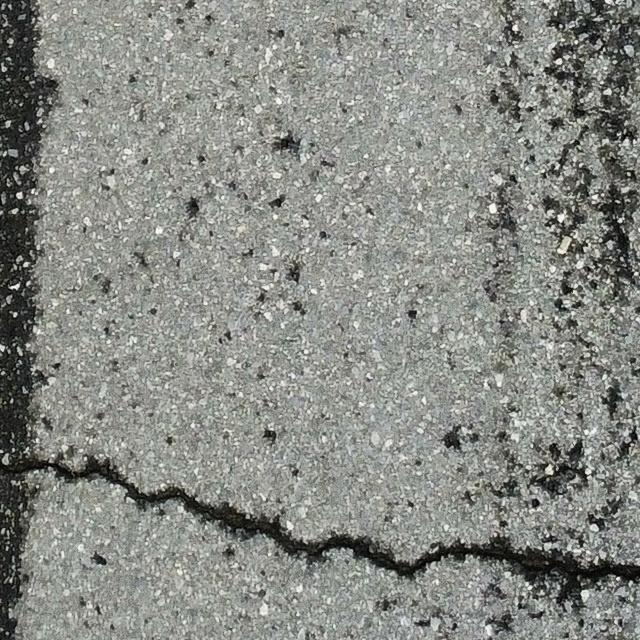TransverseCrack: (7, 452, 640, 604)
